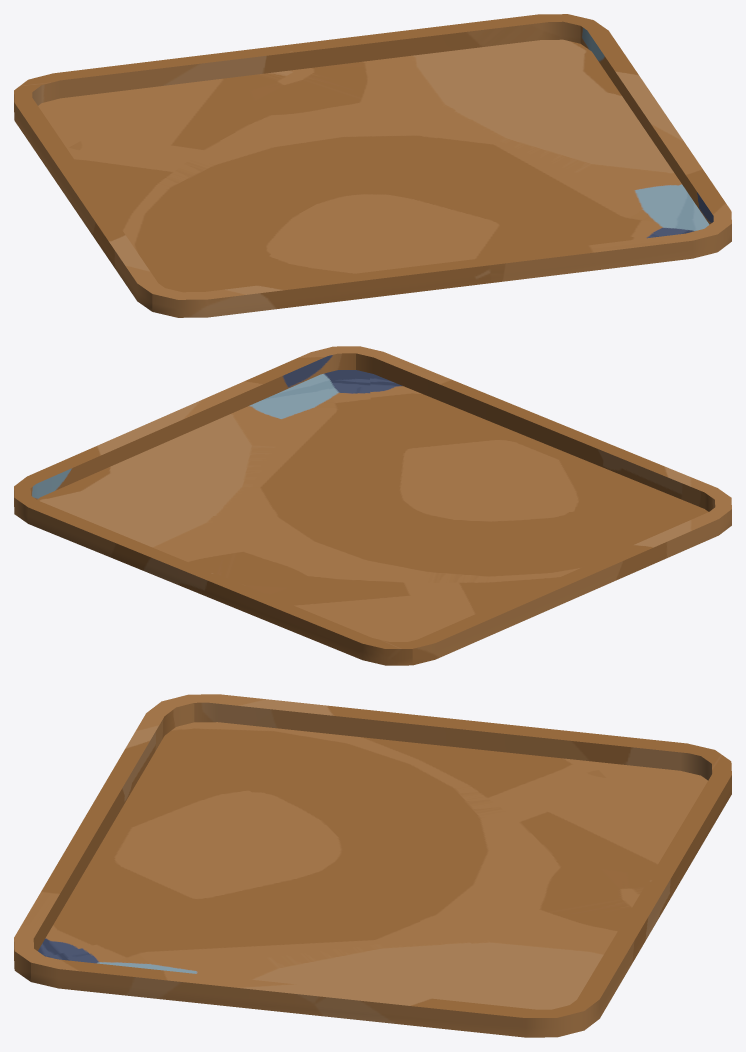
The model's file is Plate.fbx.
3 renders of one model, top to bottom at view 1: azimuth 30°, elevation 25°; view 2: azimuth 150°, elevation 25°; view 3: azimuth 270°, elevation 25°, orthographic. The views are drawn at different scales.
Parts seen in each view (by area): view 1: Plate; view 2: Plate; view 3: Plate.
Boxes of the visible parts, x1,y1,x2,y2 form: Plate: (14,14,731,317); Plate: (14,346,731,665); Plate: (14,694,731,1037).
Size of the model in its own units: 784 by 21.99 by 735.
